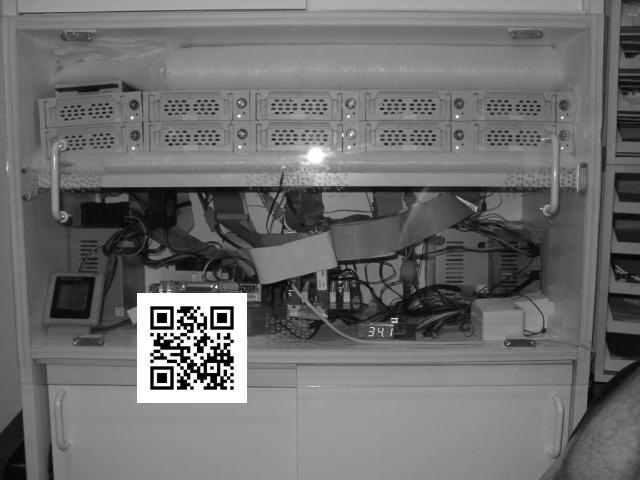qr_code: (138, 292, 248, 402)
